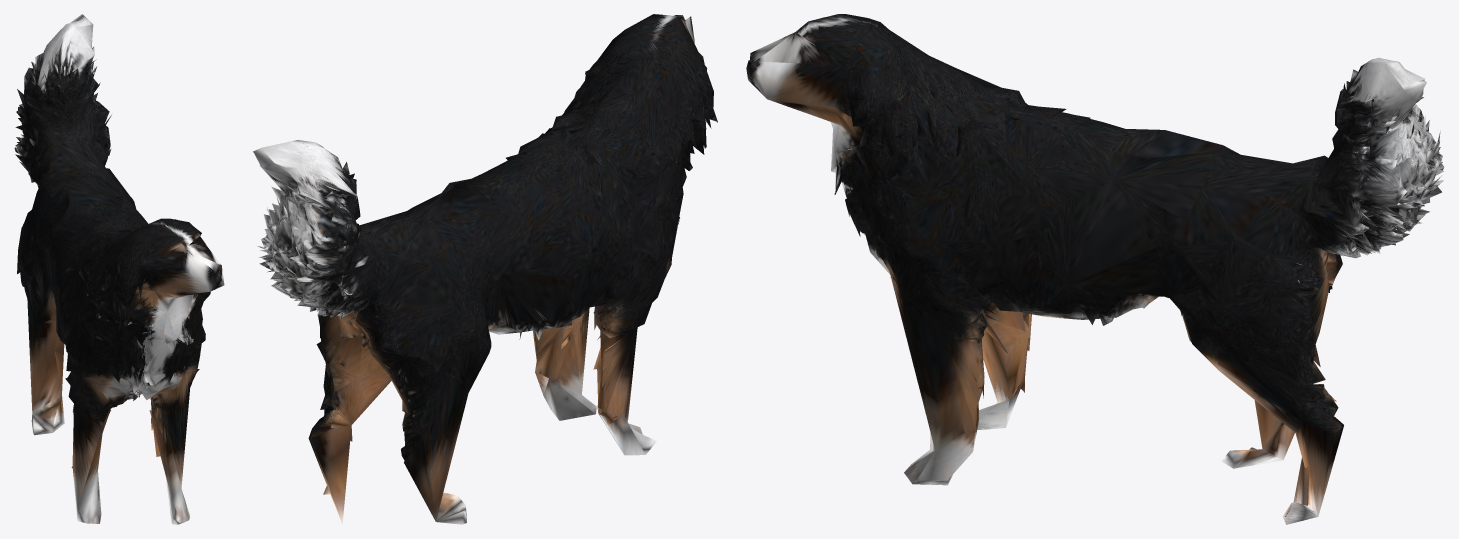
Rendered from hund_berner.glb.
3 views of the same model, side by side, from view 1: azimuth 30°, elevation 25°; view 2: azimuth 150°, elevation 25°; view 3: azimuth 270°, elevation 25° (orthographic). The views are drawn at different scales.
Size of the model in its own units: 0.7997 by 1.39 by 1.9.
Materials: 1 (1 with a texture image).
